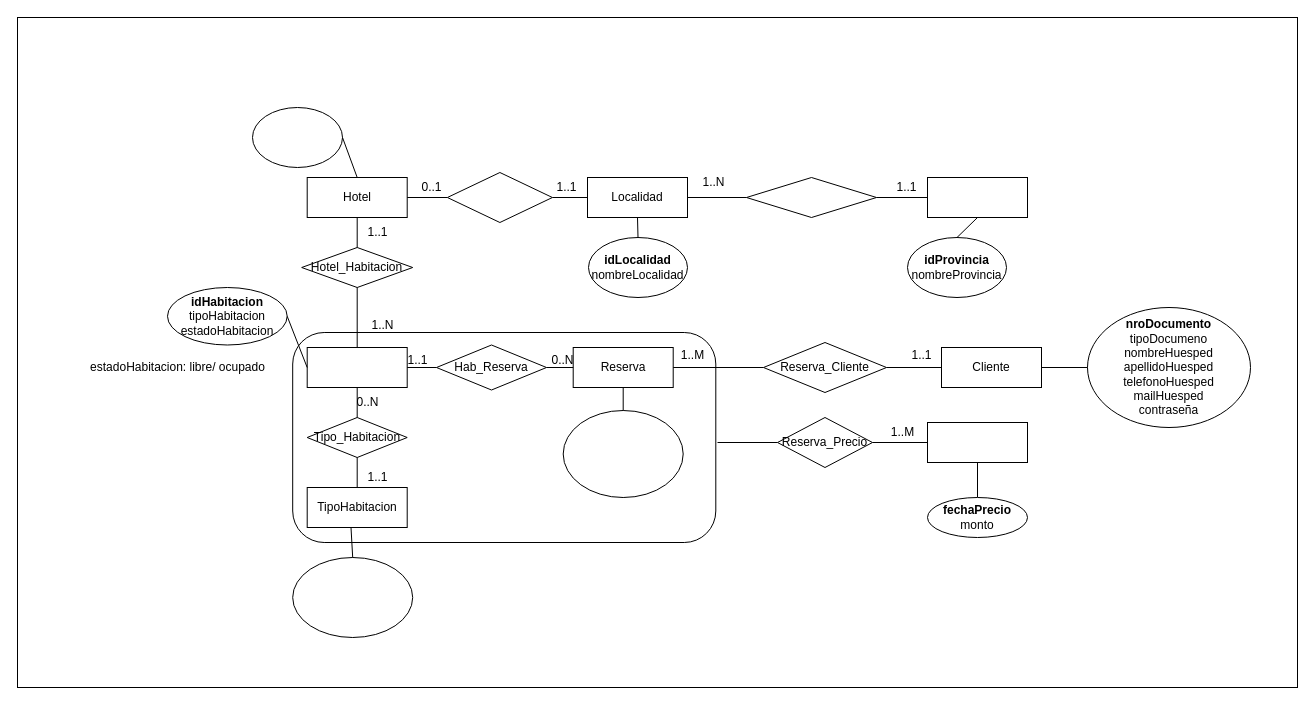
This 1315x705 diagram has some shape labels left out. Each missing label, with the centre of its shape:
"Habitacion" goes at pixel 356 367.
"Hotel_Localidad" goes at pixel 499 197.
"idHotel nombreHotel" goes at pixel 297 137.
"idReserva fechaInicio fechaFin estadoReserva nroHuespedes" goes at pixel 622 454.
"idTipoHab capacidadHuesped tarifaBase" goes at pixel 352 597.
"Localidad_Provincia" goes at pixel 811 197.
"Precio" goes at pixel 977 442.
"Provincia" goes at pixel 977 197.
